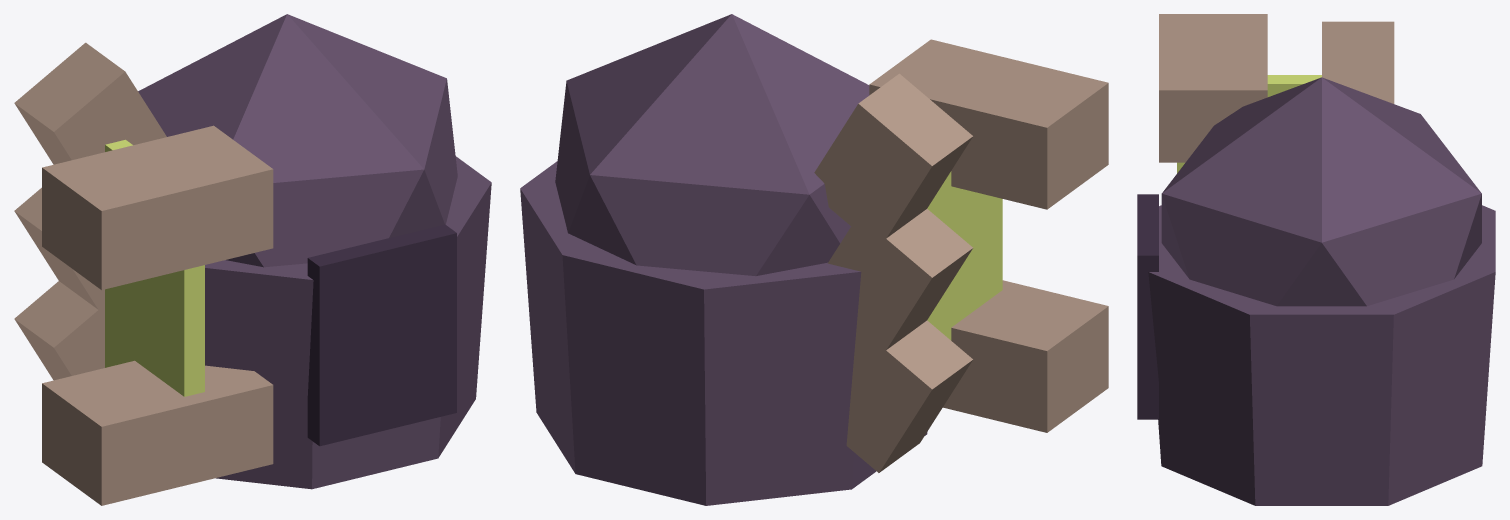
The model's file is inf_warden_lower_arm_l.fbx.
3 views of the same model, side by side, from view 1: azimuth 30°, elevation 25°; view 2: azimuth 150°, elevation 25°; view 3: azimuth 270°, elevation 25° (orthographic). The views are drawn at different scales.
Visible parts, largest first — view 1: inf_warden_lower_arm_l; view 2: inf_warden_lower_arm_l; view 3: inf_warden_lower_arm_l.
Boxes of the visible parts, x1=… form: inf_warden_lower_arm_l: x1=14, y1=14, x2=491, y2=505; inf_warden_lower_arm_l: x1=520, y1=14, x2=1108, y2=505; inf_warden_lower_arm_l: x1=1137, y1=14, x2=1495, y2=505.
Bounding box in the file's own units: 128 × 110 × 99.04.
